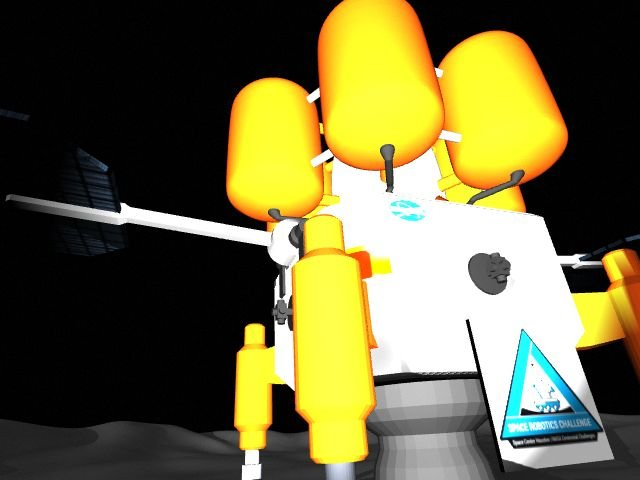basemarker: (498, 328, 605, 450)
